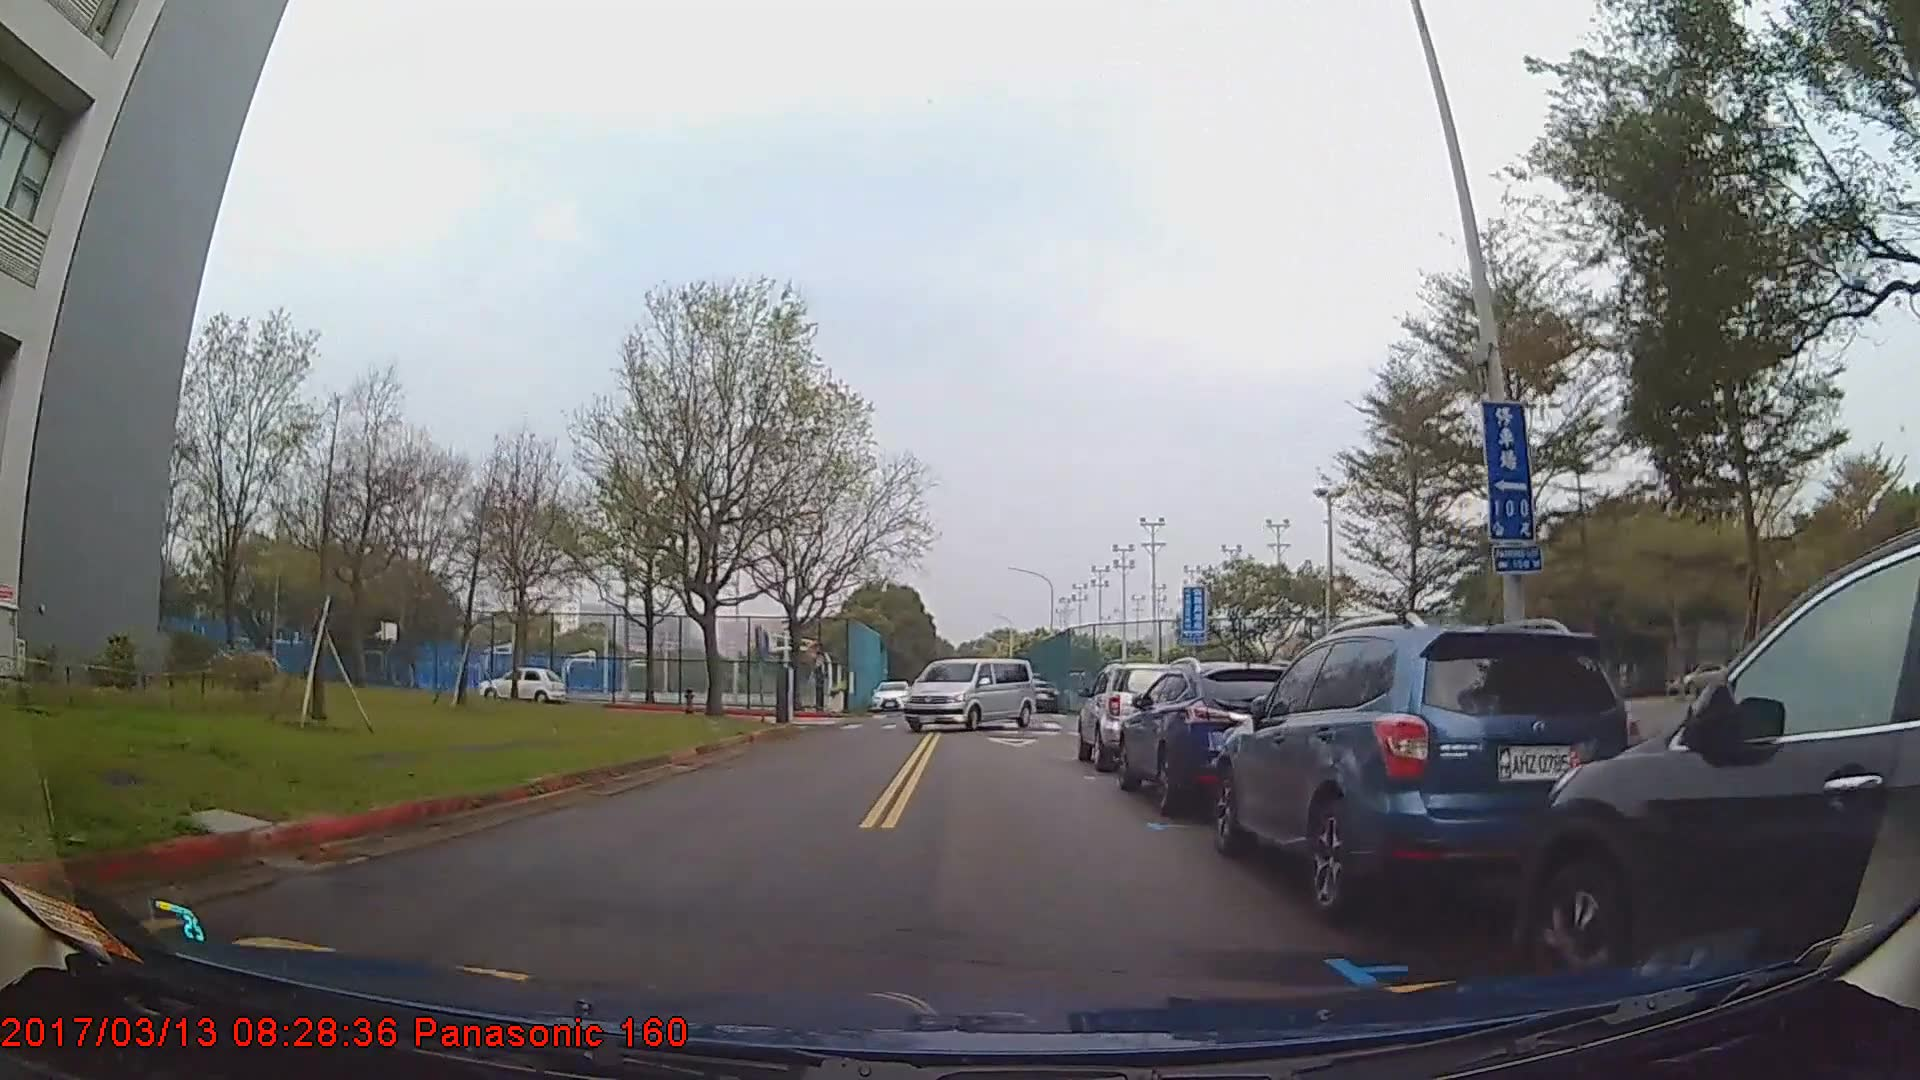vehicle: (1514, 534, 1920, 1015), (1208, 622, 1647, 919), (1116, 659, 1308, 815), (1077, 659, 1188, 769), (899, 655, 1035, 735), (483, 663, 566, 704), (1015, 678, 1062, 712), (870, 679, 911, 711)
